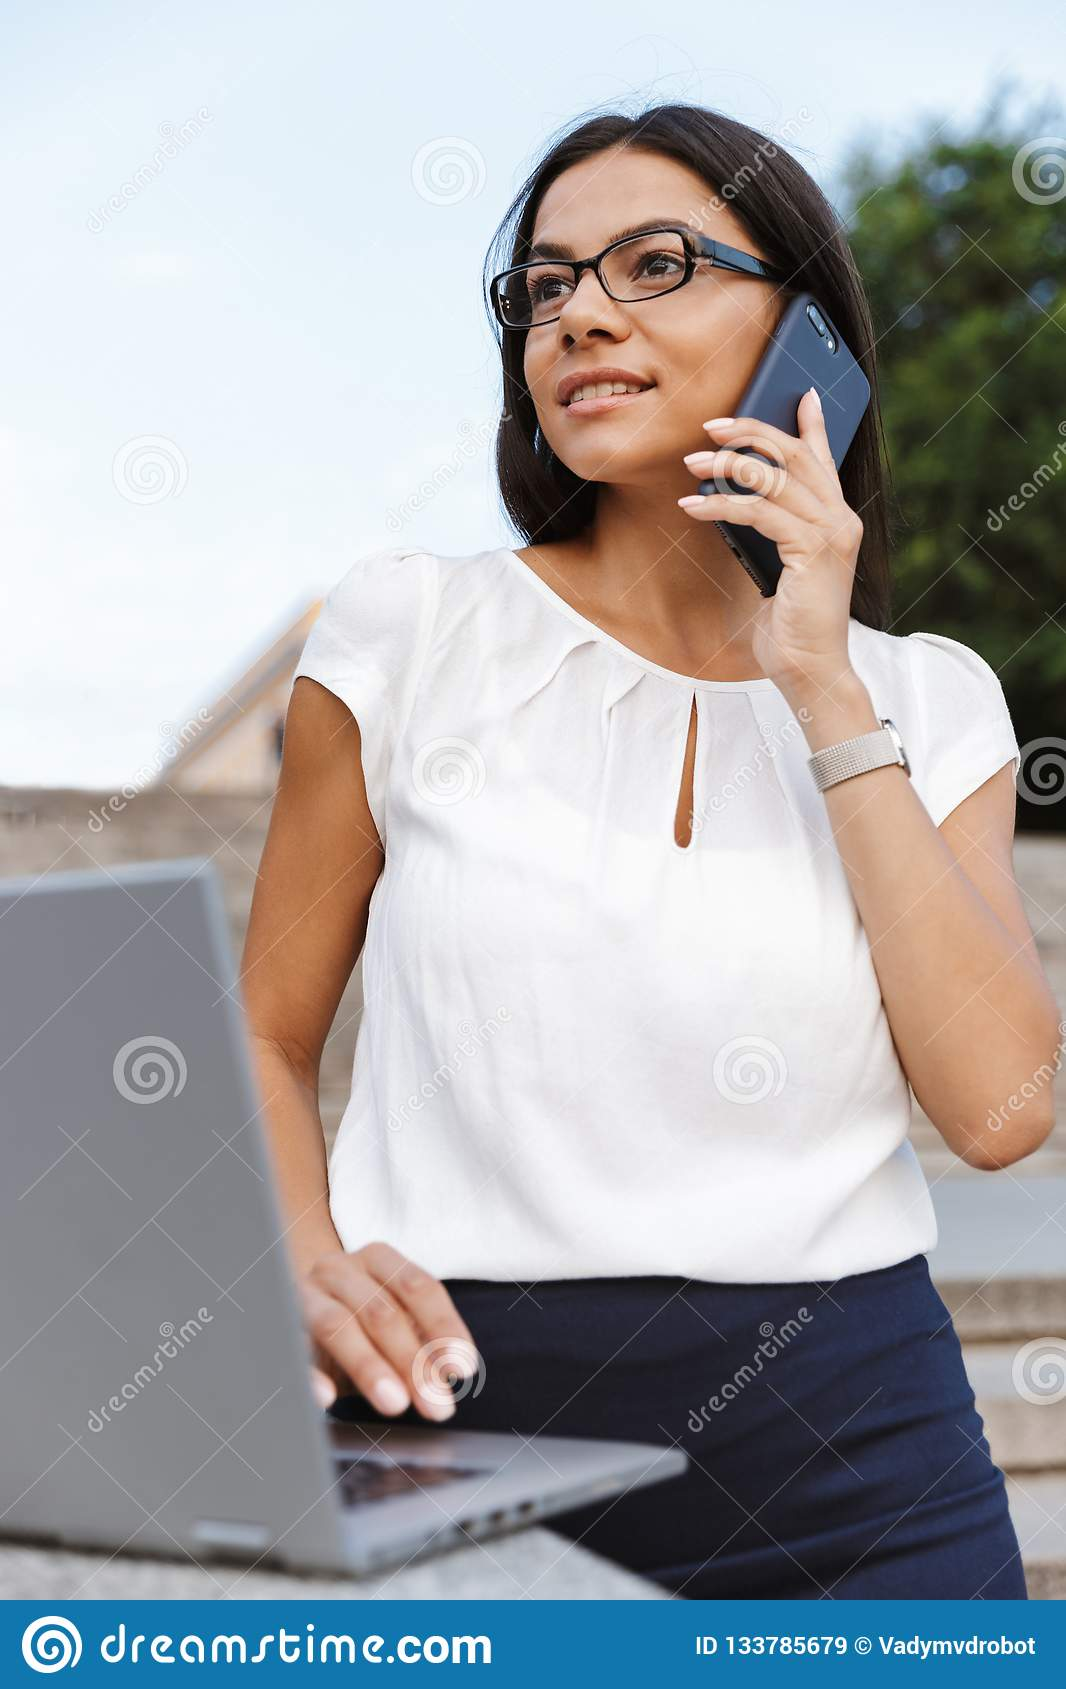phone: (702, 300, 867, 605)
talk: (527, 225, 867, 705)
